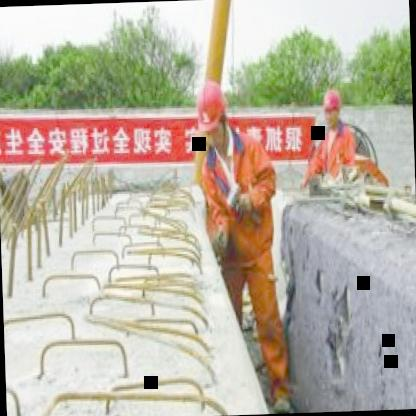helmet: (195, 81, 229, 155), (322, 87, 344, 126)
